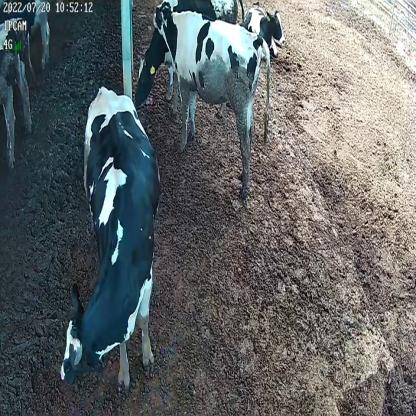cow: (58, 86, 160, 396), (152, 0, 272, 205), (134, 0, 246, 118), (241, 5, 288, 63)
